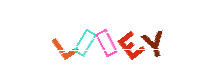7: (66, 0, 146, 80)
9: (67, 0, 147, 80)
E: (73, 0, 153, 80)
L: (45, 0, 125, 80)
Y: (113, 0, 193, 80)
